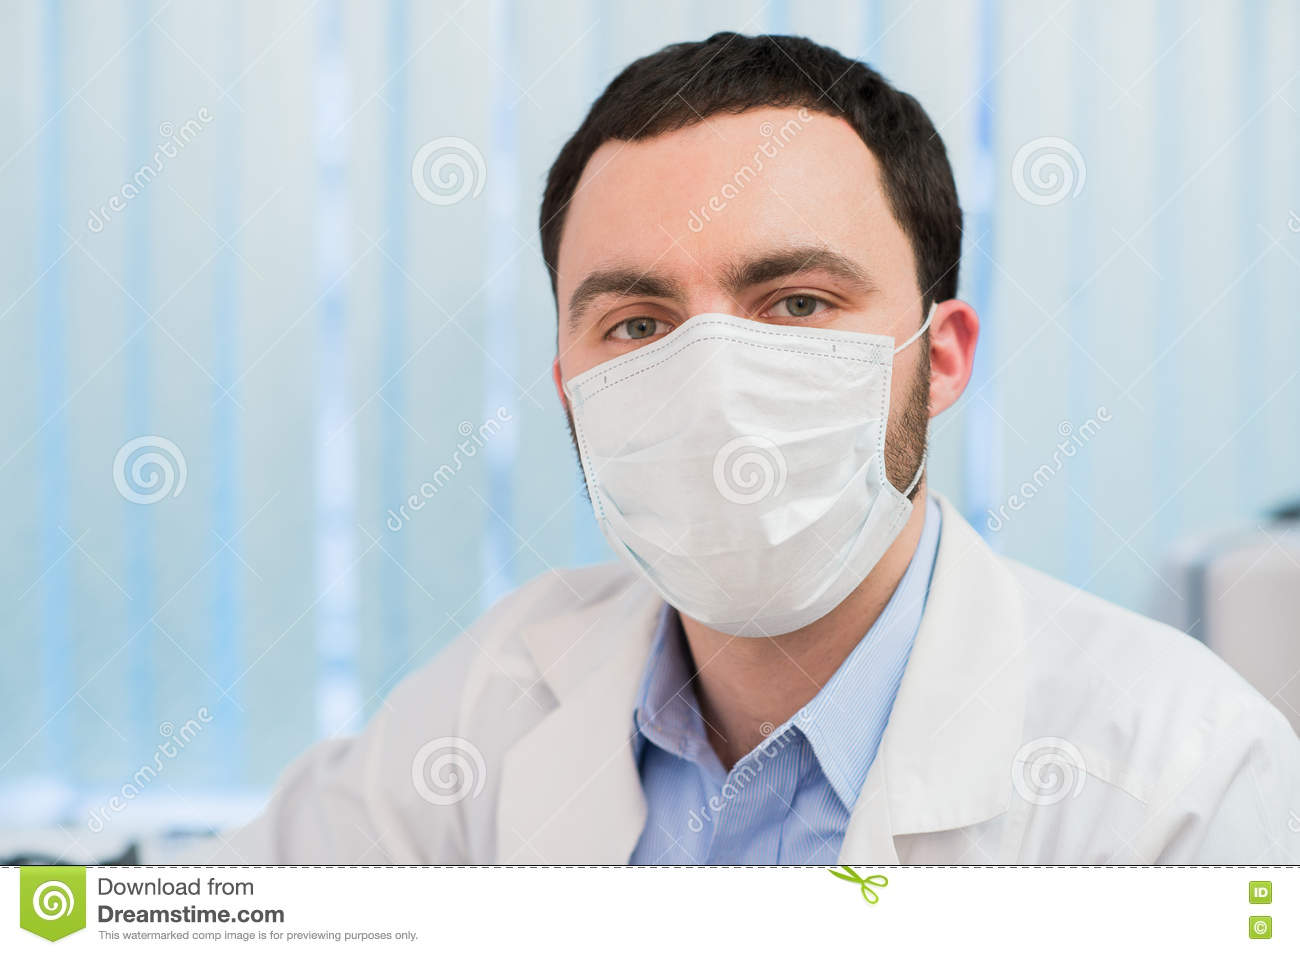mask: (560, 337, 910, 618)
